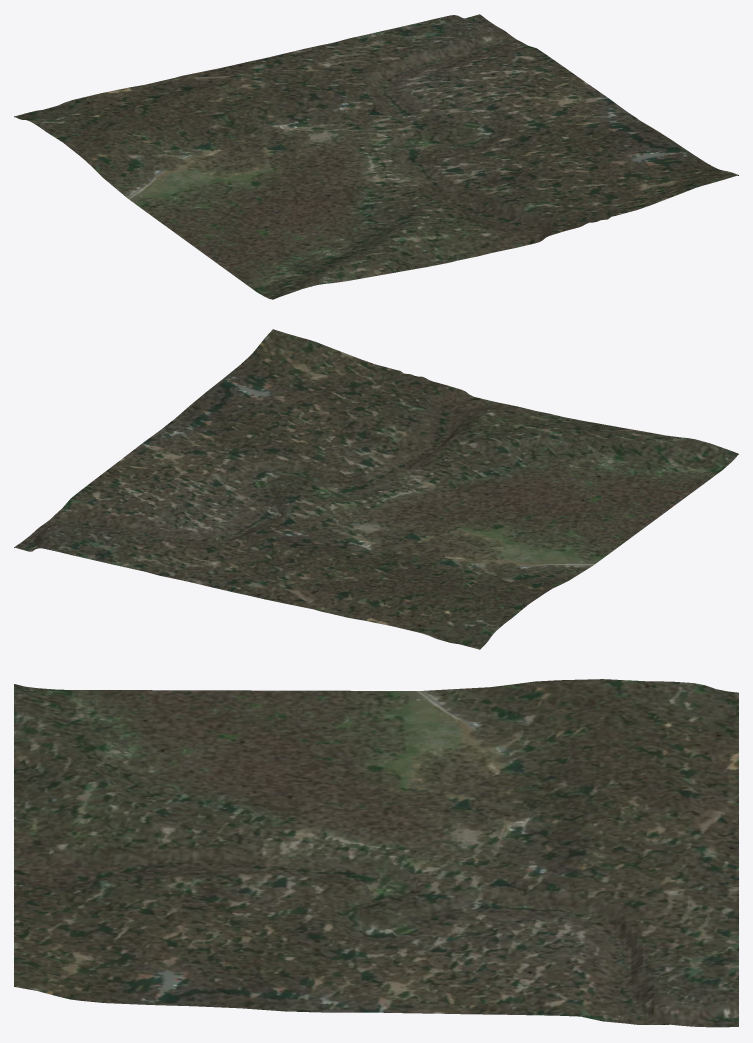
The picture shows the model from 3 angles, top to bottom: view 1: azimuth 30°, elevation 25°; view 2: azimuth 150°, elevation 25°; view 3: azimuth 270°, elevation 25°; orthographic projection. The views are drawn at different scales.
Bounding box in the file's own units: 500 × 30.96 × 481.
Materials: 1 (1 with a texture image).
